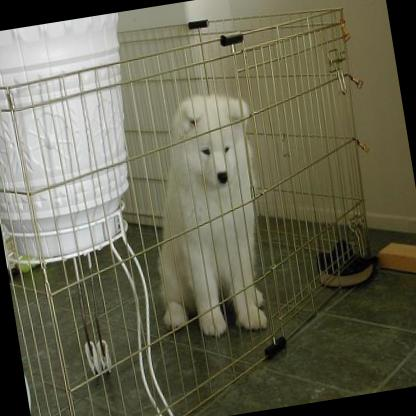Samoyed: (128, 85, 283, 344)
